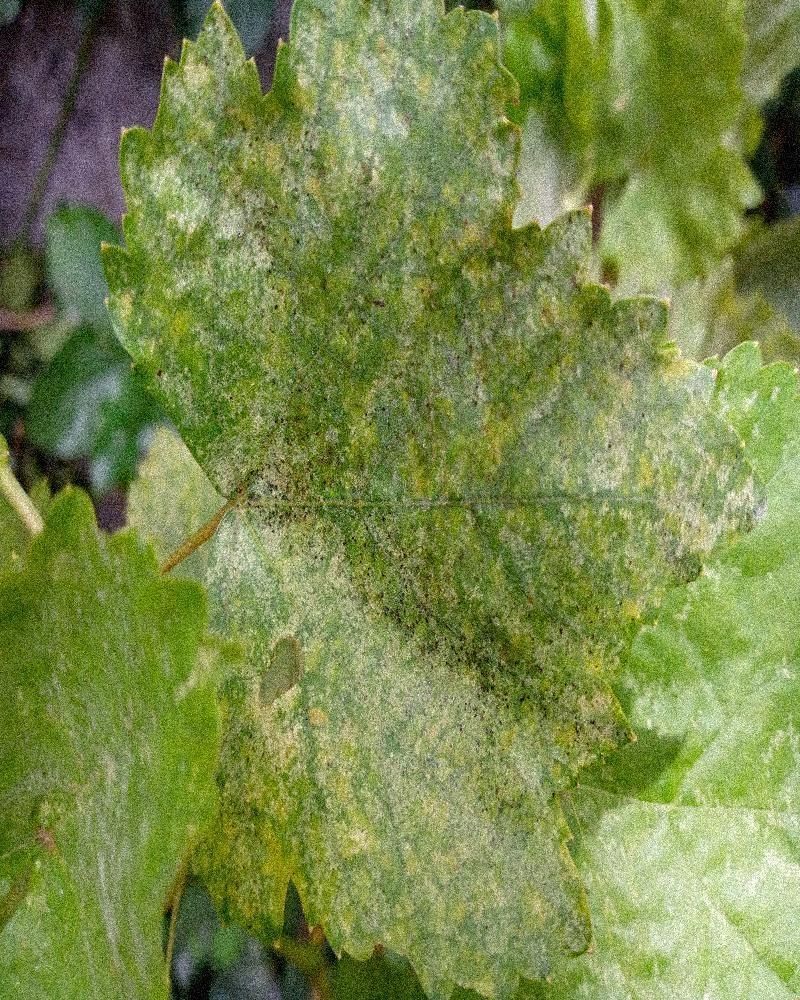Powdery-Mildew: (447, 605, 654, 817), (196, 487, 321, 598), (144, 125, 256, 241), (325, 29, 422, 151), (661, 477, 769, 583), (323, 20, 412, 147), (610, 338, 723, 438), (240, 632, 306, 716)
